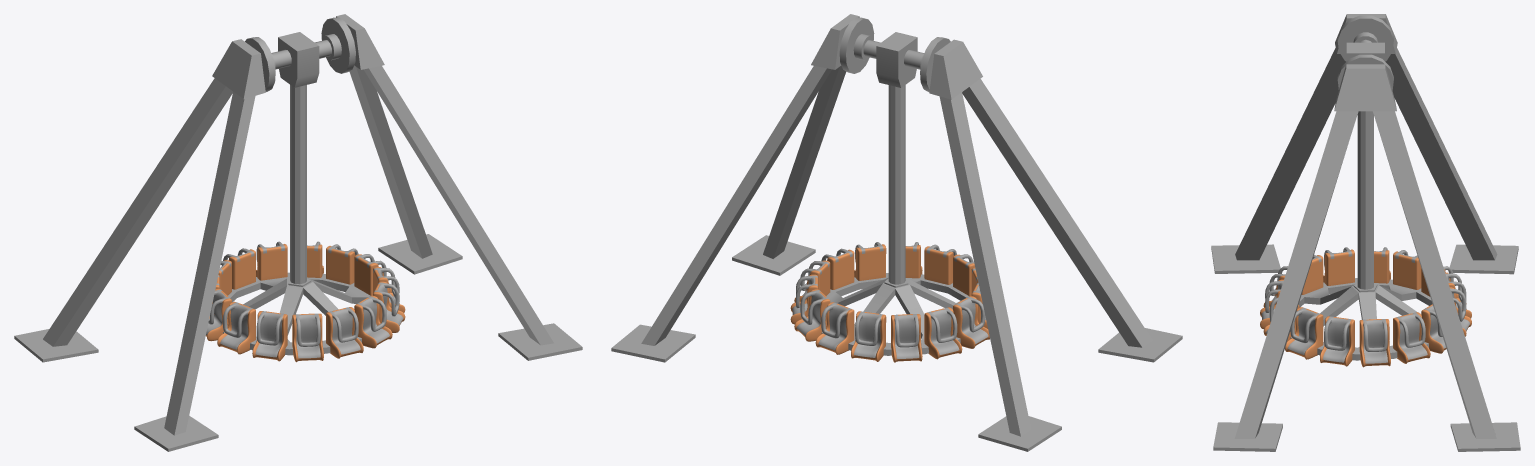
File: Swing.fbx
3 views of the same model, side by side, from view 1: azimuth 30°, elevation 25°; view 2: azimuth 150°, elevation 25°; view 3: azimuth 270°, elevation 25° (orthographic).
Parts seen in each view (by area): view 1: ram, sitsar, arm; view 2: ram, sitsar, arm; view 3: ram, sitsar, arm.
Boxes of the visible parts, <box> form: ram: <box>14,14,582,451</box>; sitsar: <box>206,241,405,362</box>; arm: <box>271,32,331,284</box>; ram: <box>611,14,1182,451</box>; sitsar: <box>790,242,989,362</box>; arm: <box>863,32,923,284</box>; ram: <box>1211,14,1520,451</box>; sitsar: <box>1260,247,1471,367</box>; arm: <box>1346,39,1384,289</box>.
Bounding box in the file's own units: 1132 × 809 × 724.
